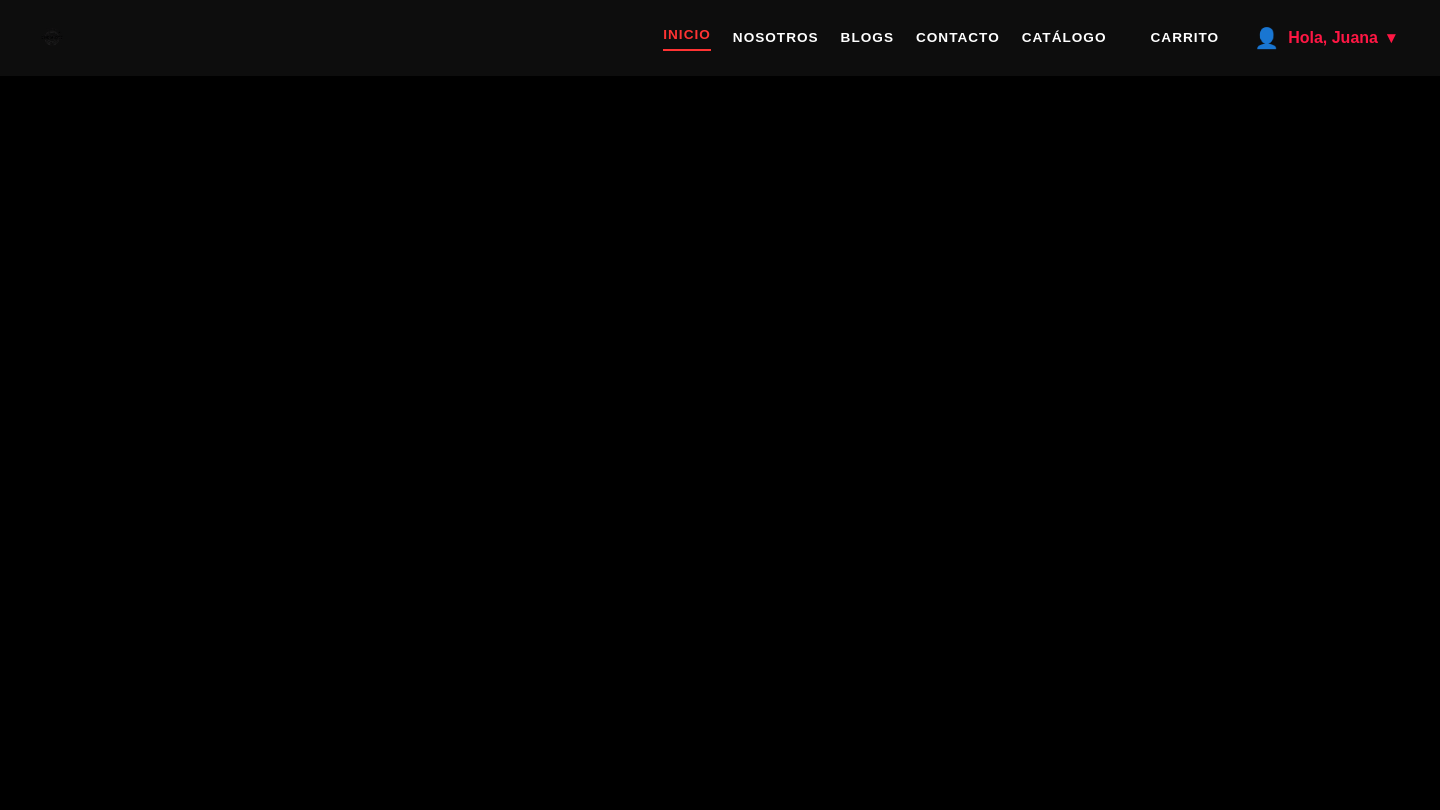
Test case: Facture Sneakers - Navbar › debe cerrar el menú del perfil al hacer clic fuera
Click the button "👤 Hola, Juana ▾" at {"x": 1325, "y": 38}, box [1241,12,1408,64]
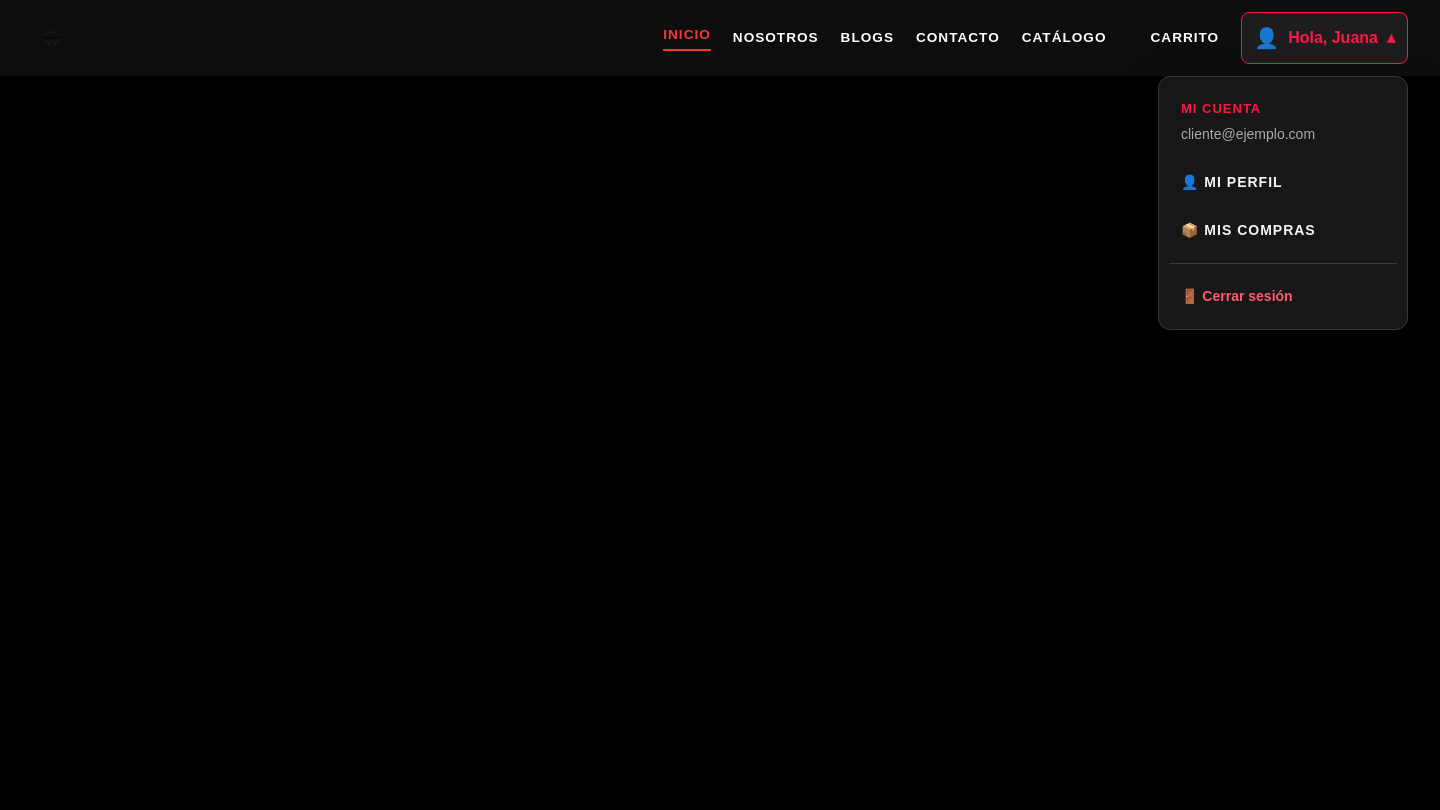
Press the mouse on the element that starts with "Inicio" at {"x": 720, "y": 405}, box [0,0,1439,809]
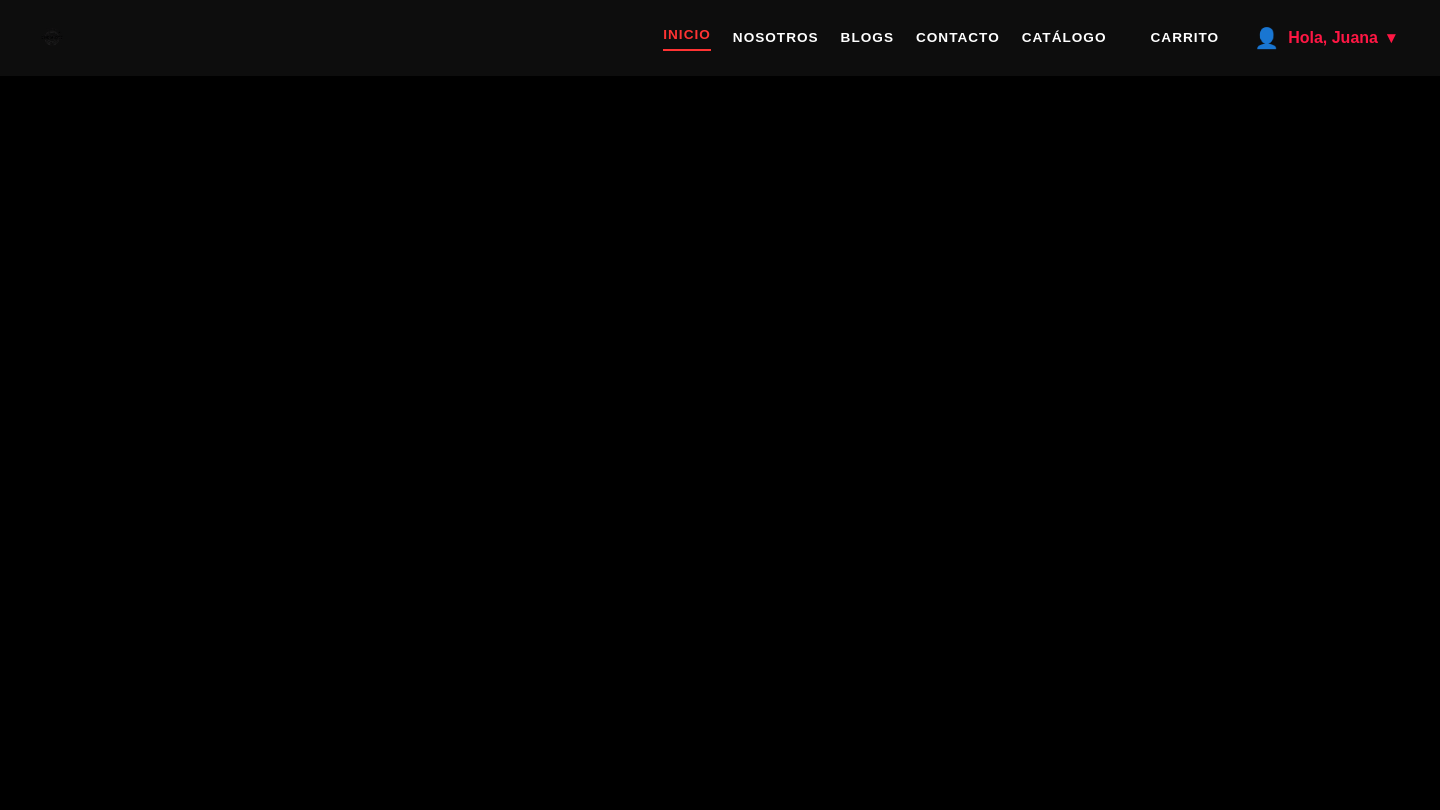
Result: the button "👤 Hola, Juana ▾" is collapsed at [1241,12,1408,64]
